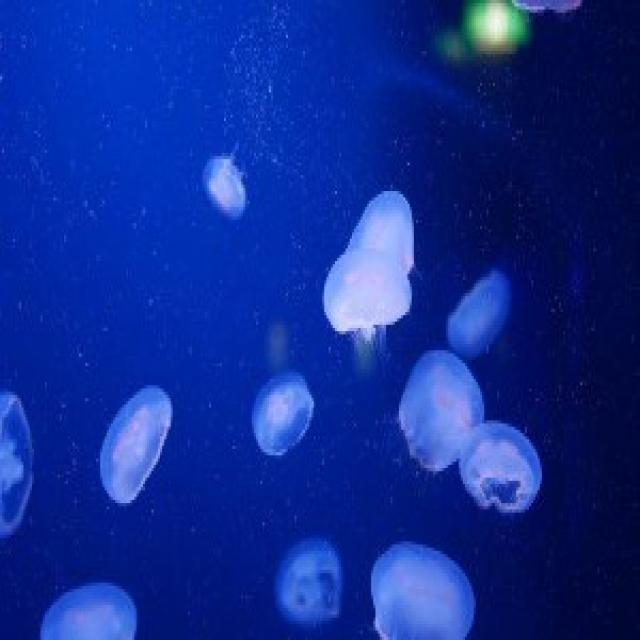Jellyfish: (315, 198, 430, 350), (458, 424, 578, 533), (372, 539, 485, 640), (94, 386, 184, 496), (246, 348, 321, 464), (11, 580, 147, 640), (401, 351, 472, 462), (262, 535, 341, 632), (193, 132, 265, 238), (0, 382, 45, 536)
